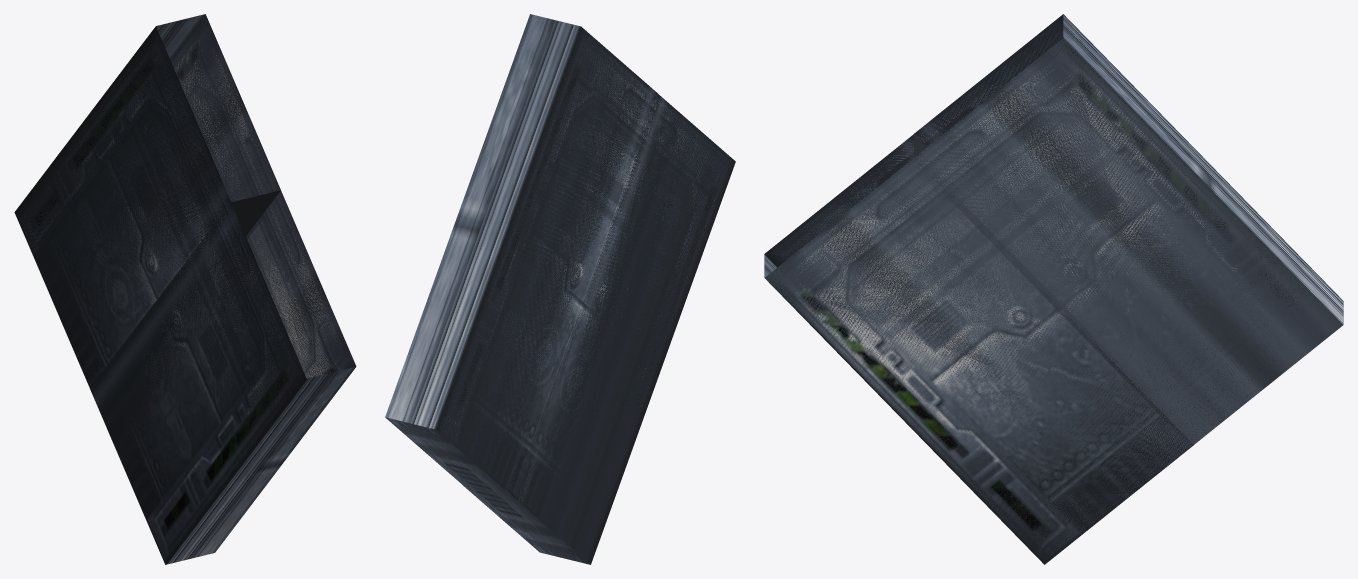
Rendered from DOORSTEST.fbx.
3 renders of one model, left to right at view 1: azimuth 30°, elevation 25°; view 2: azimuth 150°, elevation 25°; view 3: azimuth 270°, elevation 25°, orthographic. The views are drawn at different scales.
Visible parts, largest first — view 1: Cube.007, Cube.006; view 2: Cube.006, Cube.007; view 3: Cube.006, Cube.007.
Boxes of the visible parts, bbox=[...] form: Cube.007: bbox=[90, 190, 356, 564]; Cube.006: bbox=[14, 14, 280, 387]; Cube.006: bbox=[385, 14, 658, 497]; Cube.007: bbox=[463, 94, 735, 564]; Cube.006: bbox=[914, 14, 1343, 444]; Cube.007: bbox=[764, 134, 1193, 564].
Bounding box in the file's own units: 2.69 × 27.52 × 27.41.
